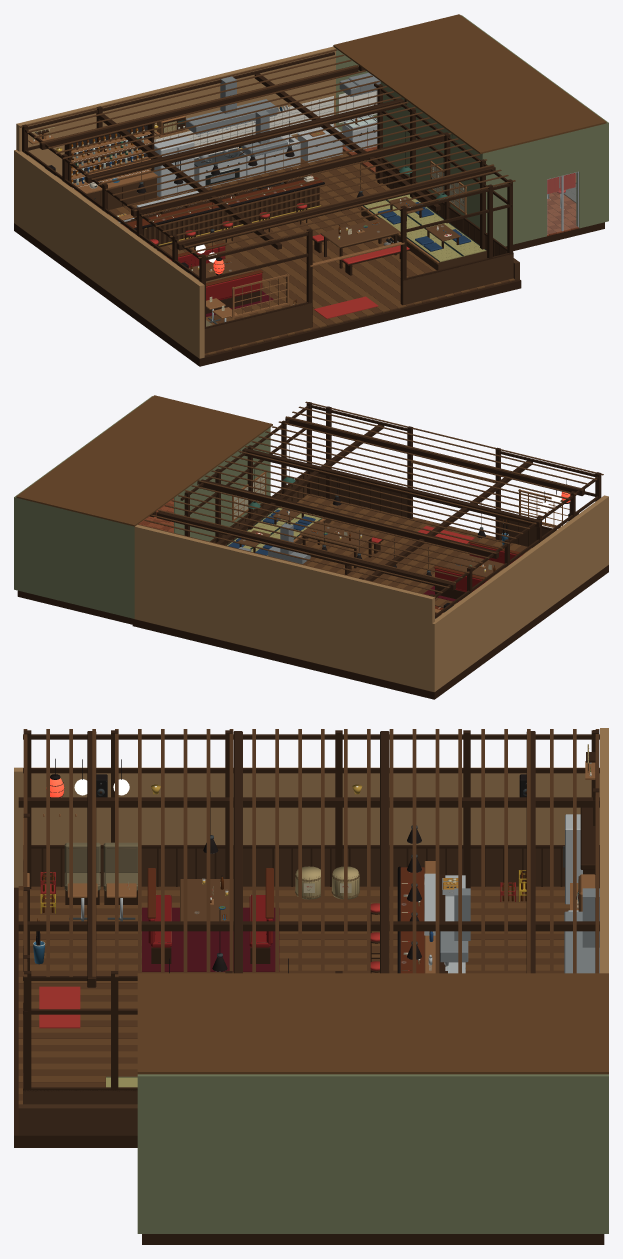
Rendered from minato-interior.glb.
The picture shows the model from 3 angles, top to bottom: view 1: azimuth 30°, elevation 25°; view 2: azimuth 150°, elevation 25°; view 3: azimuth 270°, elevation 25°; orthographic projection. The views are drawn at different scales.
Visible parts, largest first — view 1: minato-interior / Minato matte, minato-interior / Minato steel, minato-interior / Minato glossy, minato-interior / Minato glass; view 2: minato-interior / Minato matte, minato-interior / Minato glossy, minato-interior / Minato steel; view 3: minato-interior / Minato matte, minato-interior / Minato glossy, minato-interior / Minato steel.
Part boxes in pixels (bbox=[...]): minato-interior / Minato matte: bbox=[14, 14, 608, 366]; minato-interior / Minato steel: bbox=[56, 72, 578, 324]; minato-interior / Minato glossy: bbox=[33, 91, 576, 318]; minato-interior / Minato glass: bbox=[162, 173, 576, 271]; minato-interior / Minato matte: bbox=[14, 395, 608, 699]; minato-interior / Minato glossy: bbox=[248, 441, 578, 615]; minato-interior / Minato steel: bbox=[238, 495, 519, 572]; minato-interior / Minato matte: bbox=[14, 728, 608, 1244]; minato-interior / Minato glossy: bbox=[33, 758, 591, 1028]; minato-interior / Minato steel: bbox=[69, 783, 599, 973].
Bounding box in the file's own units: 18.1 × 4.17 × 13.
